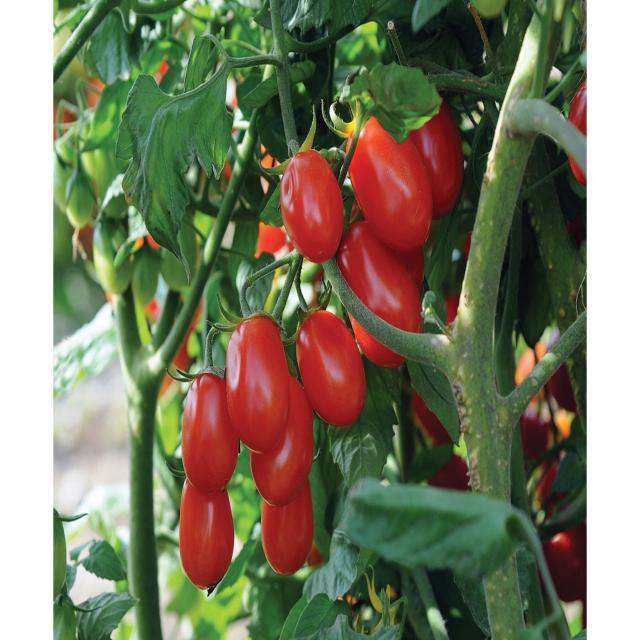kirmizi: (128, 354, 352, 592), (260, 148, 452, 354)
